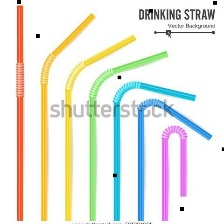drinking_straw: (61, 31, 139, 224), (36, 9, 98, 222), (10, 3, 28, 222), (158, 121, 191, 222)
